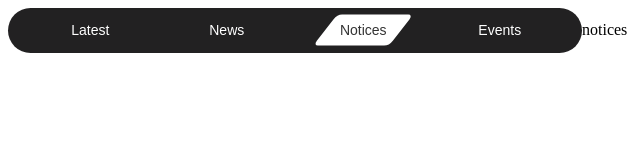
Test: WebTabs › is controllable
Step 1. Click the tab "Latest" → click(90, 30), box top-left (22, 8), bottom-right (158, 53)
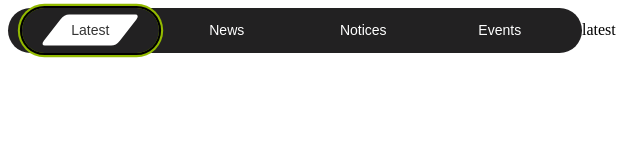
Check: the text "latest" is shown, box top-left (582, 21), bottom-right (616, 38)
